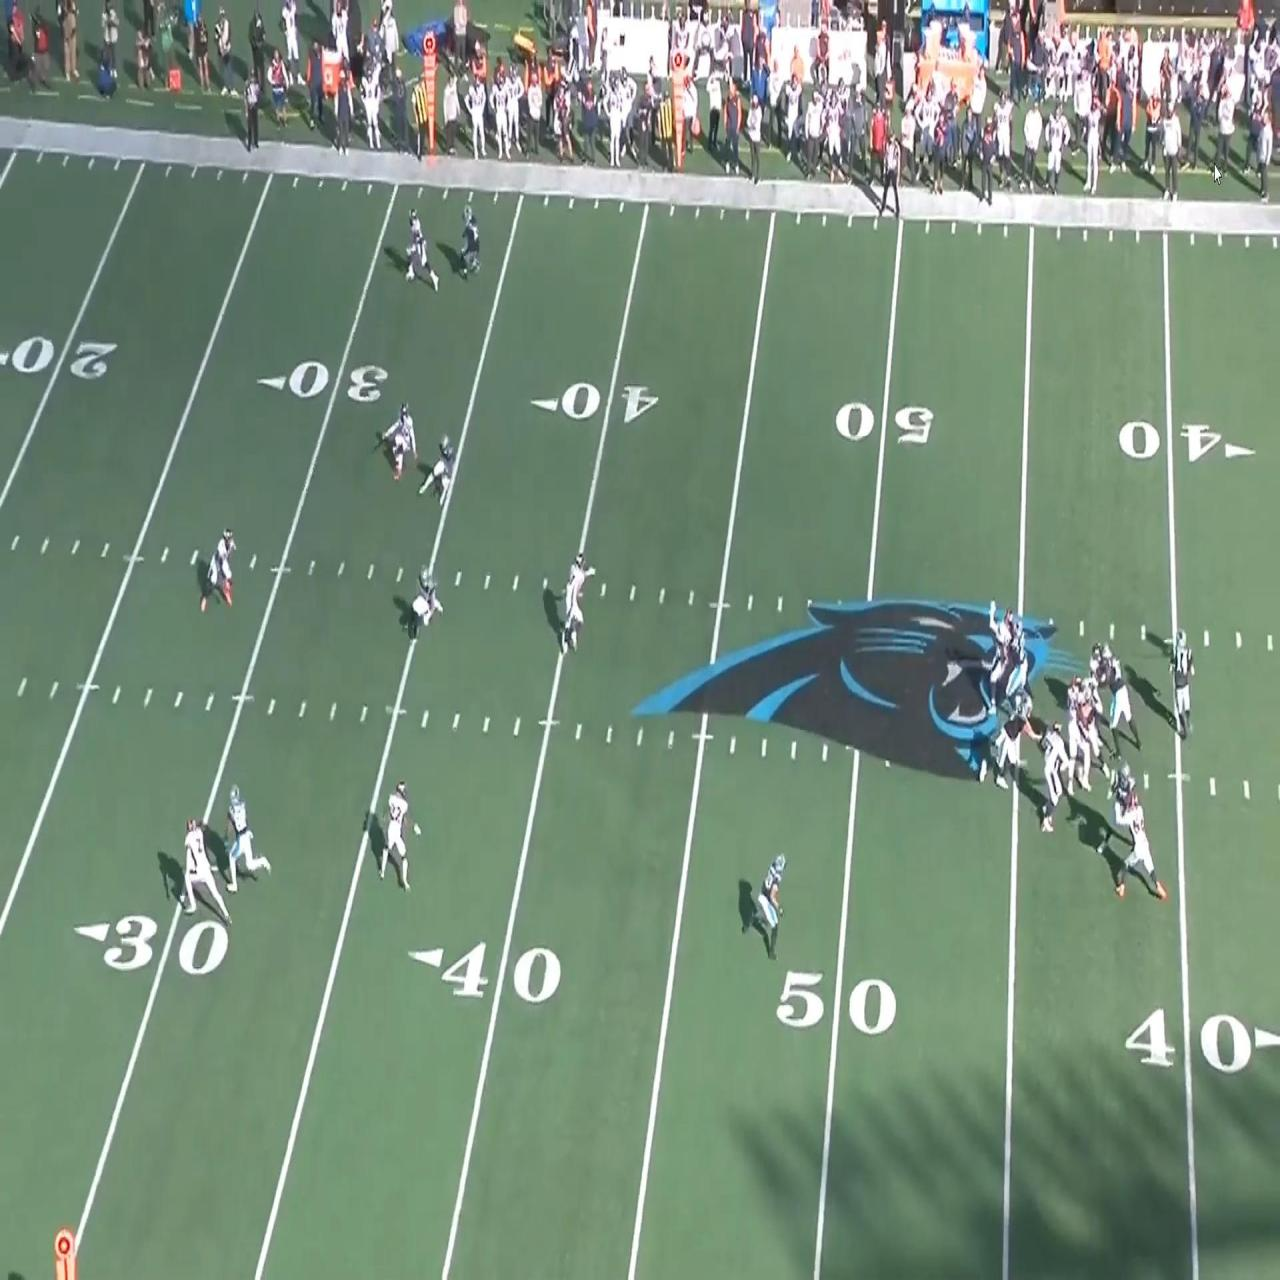20L: (0, 333, 117, 382)
30L: (74, 912, 229, 975), (259, 358, 388, 406)
40L: (407, 940, 560, 1003), (532, 381, 661, 425)
40R: (1123, 1008, 1280, 1073), (1118, 418, 1258, 467)
50: (776, 962, 898, 1036), (836, 401, 934, 444)
